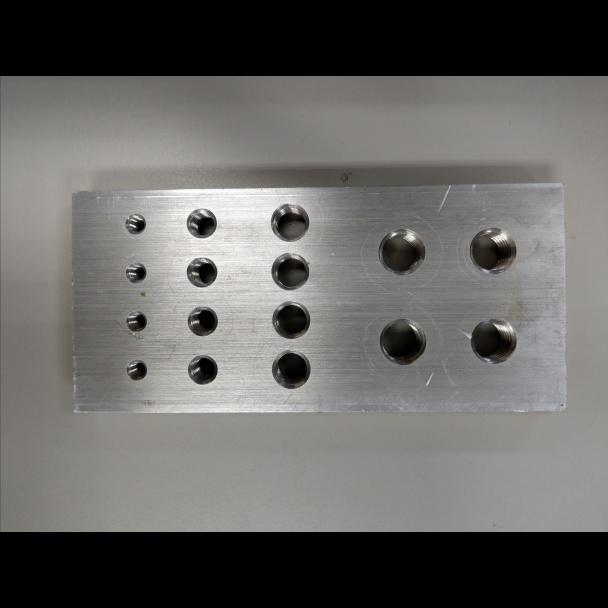hole: (467, 225, 518, 276), (376, 226, 427, 276), (377, 316, 427, 367), (469, 316, 518, 366), (269, 250, 310, 292), (270, 349, 311, 391), (269, 202, 310, 243), (270, 299, 311, 339), (185, 304, 219, 339), (185, 205, 218, 240), (185, 255, 218, 289), (186, 353, 219, 386), (123, 211, 147, 236), (125, 358, 148, 382), (124, 262, 147, 285), (124, 310, 147, 333)
